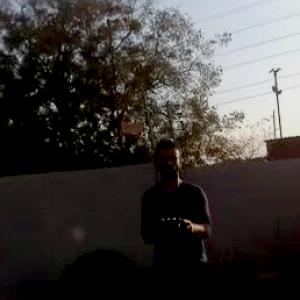follow: (137, 131, 220, 299)
